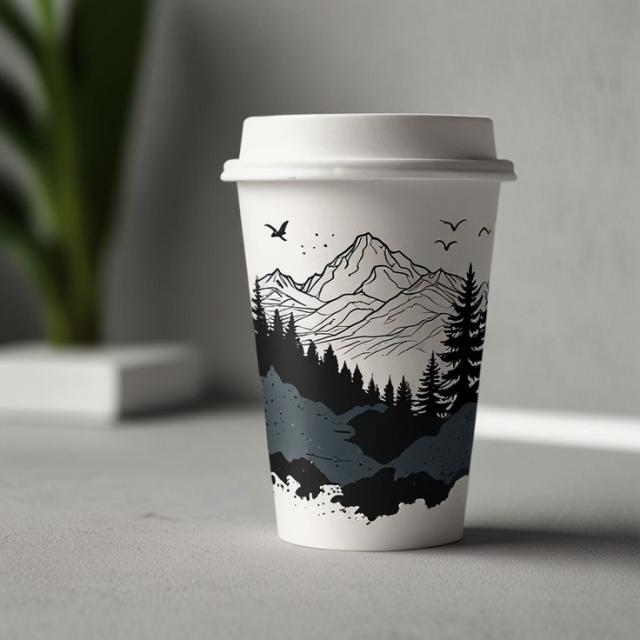paper cup: (221, 114, 517, 550)
